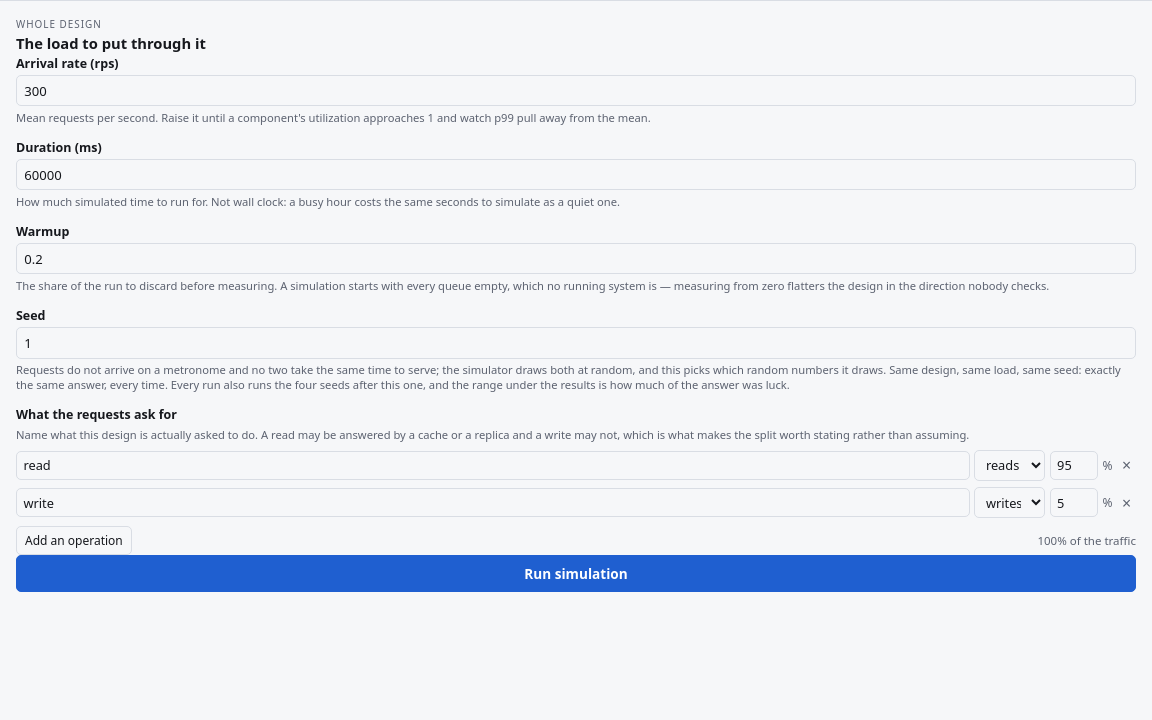
Test case: SimulationPanel › re-enables the button after a failure, so a fixed design can be run
The image size is (1152, 720).
Click the button "Run simulation" at (576, 574), box x1=16 y1=555 x2=1136 y2=592
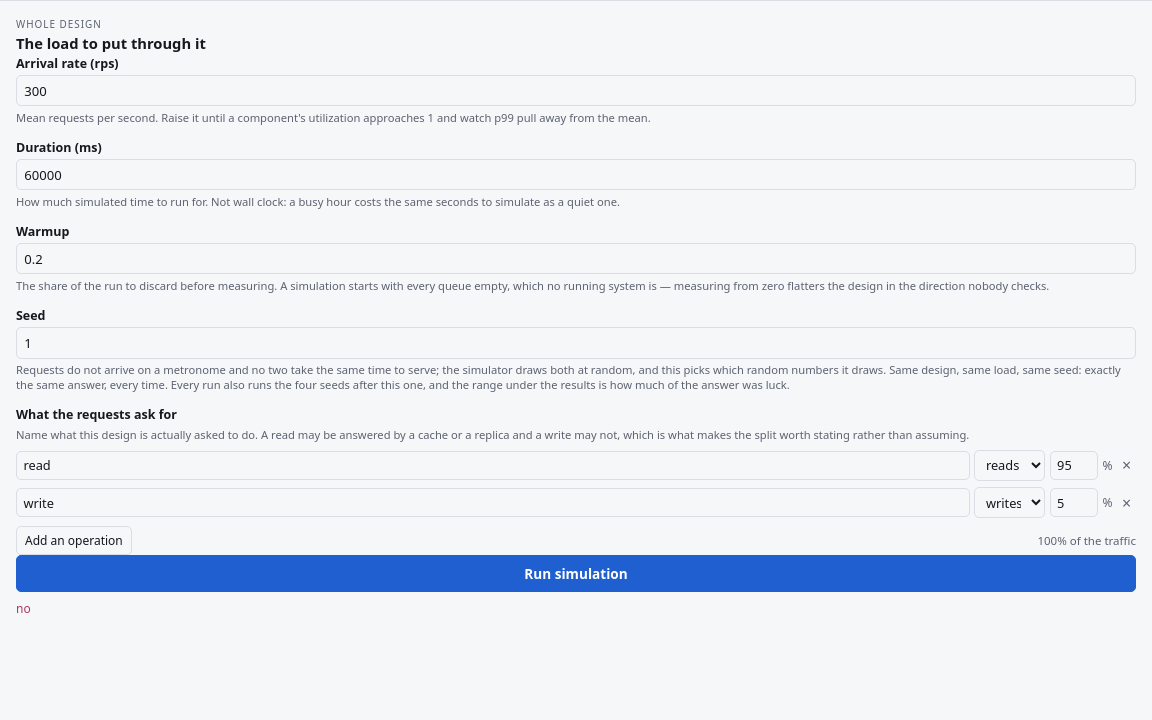
Expected: the message reads "no", x1=16 y1=600 x2=31 y2=617
